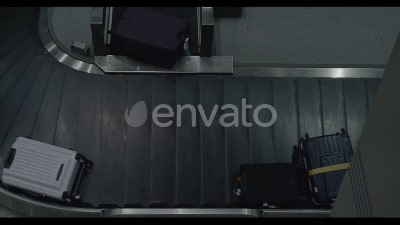baggage: (2, 134, 92, 203), (300, 127, 356, 211), (112, 10, 195, 61), (232, 160, 307, 207)
